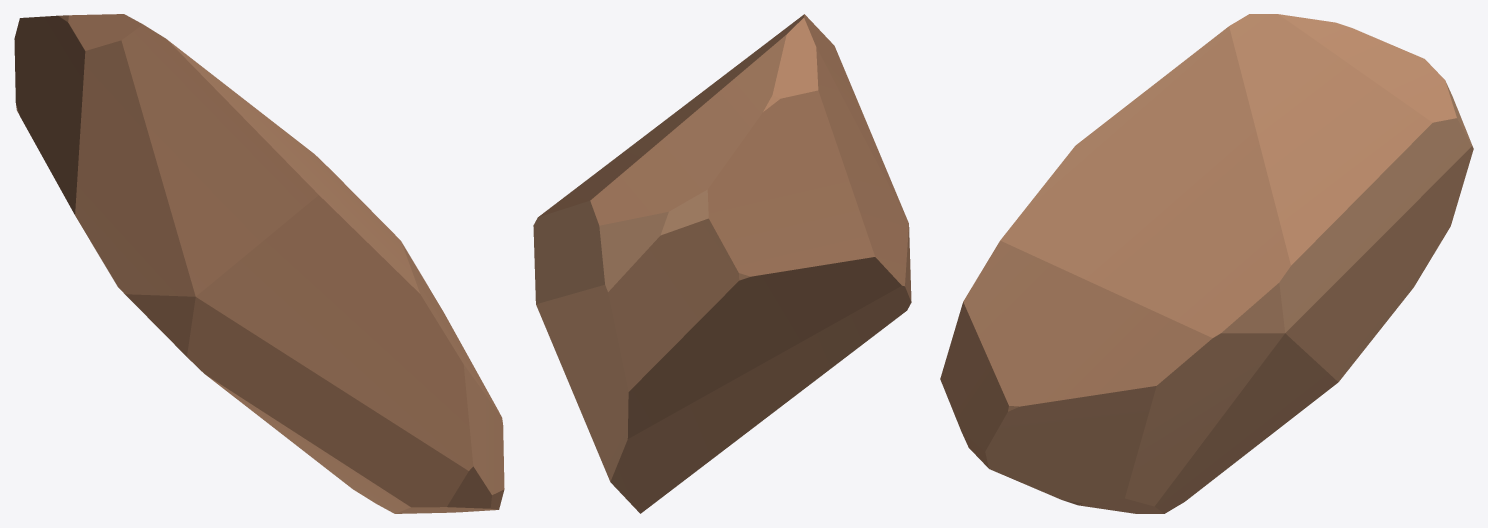
The model's file is Rock_1.fbx.
The picture shows the model from 3 angles, left to right: view 1: azimuth 30°, elevation 25°; view 2: azimuth 150°, elevation 25°; view 3: azimuth 270°, elevation 25°; orthographic projection. The views are drawn at different scales.
Visible parts, largest first — view 1: Rock.1; view 2: Rock.1; view 3: Rock.1.
Boxes of the visible parts, box(x1,y1,x2,y2) form: Rock.1: box(14, 14, 504, 513); Rock.1: box(533, 14, 911, 513); Rock.1: box(940, 14, 1473, 513).
Bounding box in the file's own units: 1427 × 2454 × 2144.
